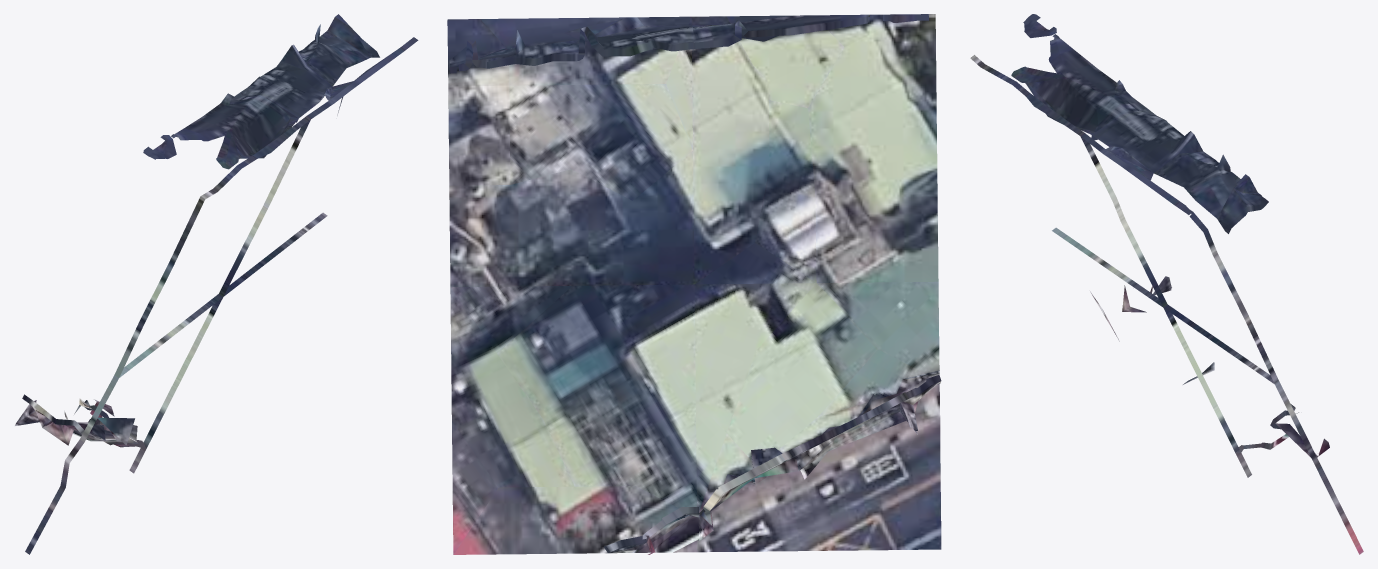
3 views of the same model, side by side, from view 1: azimuth 30°, elevation 25°; view 2: azimuth 150°, elevation 25°; view 3: azimuth 270°, elevation 25° (orthographic). The views are drawn at different scales.
Size of the model in its own units: 38.4 by 37.41 by 31.98.
Materials: 1 (1 with a texture image).
